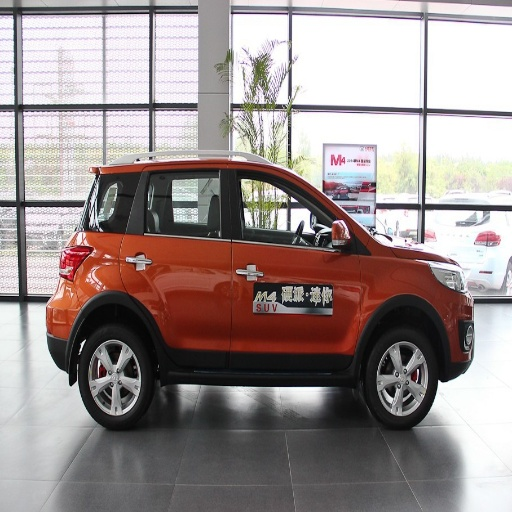back_right_door: (122, 161, 229, 366)
front_right_door: (229, 163, 362, 365)
